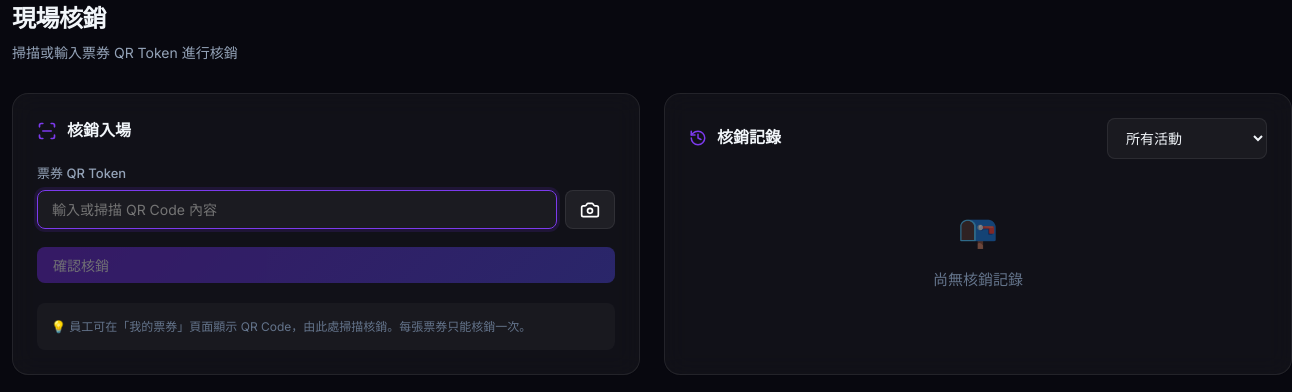
Test: CheckIn › 切換活動篩選會用 event_id 重新查詢核銷紀錄
Select "年度家庭日…" in the dropdown. click: [1187, 138]
box: left=1107, top=118, right=1267, bottom=159
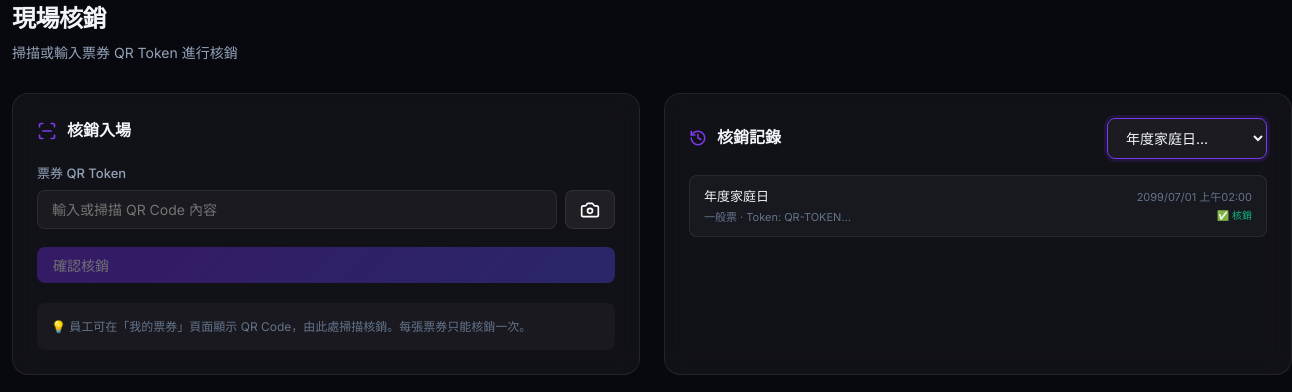
Now the text "年度家庭日" is shown, box left=704, top=188, right=769, bottom=204
